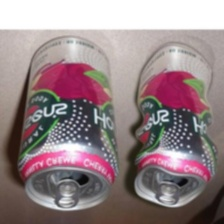can: (15, 34, 120, 213), (130, 41, 221, 211)
